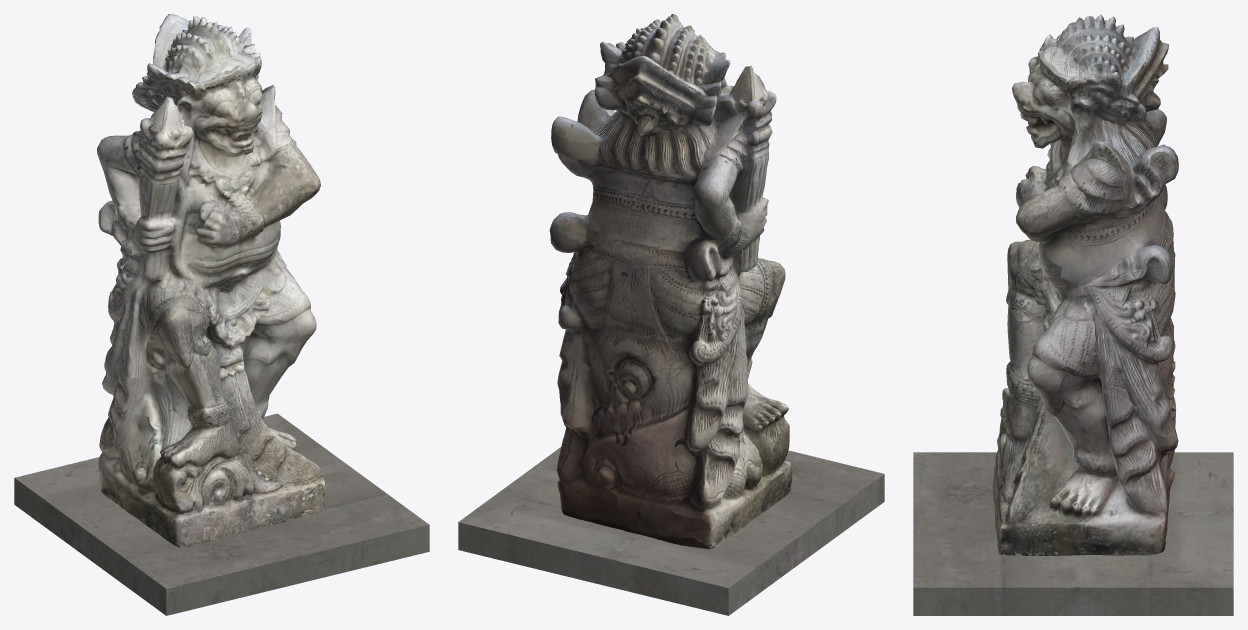
File: dwarapala-medium.glb
3 renders of one model, left to right at view 1: azimuth 30°, elevation 25°; view 2: azimuth 150°, elevation 25°; view 3: azimuth 270°, elevation 25°, orthographic. The views are drawn at different scales.
Parts seen in each view (by area): view 1: poly.001, Cube; view 2: poly.001, Cube; view 3: poly.001, Cube.
Boxes of the visible parts, bbox=[...] form: poly.001: bbox=[97, 14, 326, 547]; Cube: bbox=[14, 413, 429, 615]; poly.001: bbox=[530, 14, 792, 549]; Cube: bbox=[458, 447, 884, 615]; poly.001: bbox=[992, 14, 1193, 560]; Cube: bbox=[913, 452, 1233, 615].
Size of the model in its own units: 0.5468 by 1 by 0.5468.
Materials: 2 (2 with a texture image).
